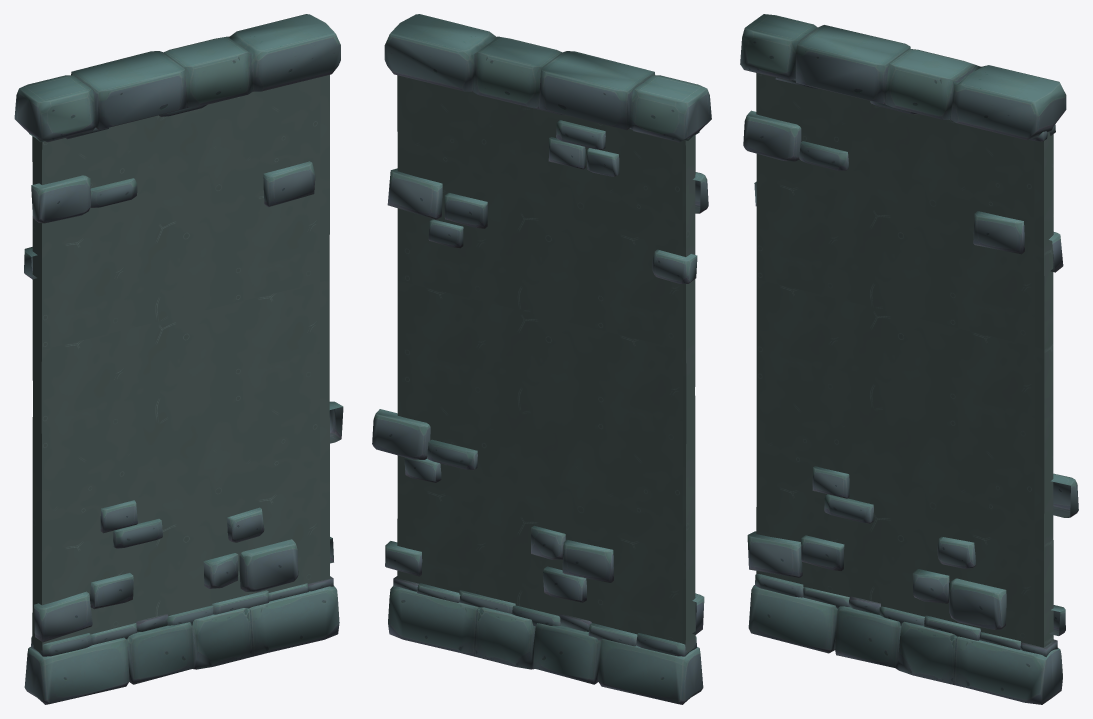
File: wall_tall.fbx
3 renders of one model, left to right at view 1: azimuth 30°, elevation 25°; view 2: azimuth 150°, elevation 25°; view 3: azimuth 330°, elevation 25°, orthographic.
Parts seen in each view (by area): view 1: SM_Wall_Tall; view 2: SM_Wall_Tall; view 3: SM_Wall_Tall.
Part boxes in pixels (<box>): SM_Wall_Tall: <box>14,14,343,704</box>; SM_Wall_Tall: <box>372,14,711,704</box>; SM_Wall_Tall: <box>740,14,1078,704</box>.
Size of the model in its own units: 551 by 1003 by 94.79.
